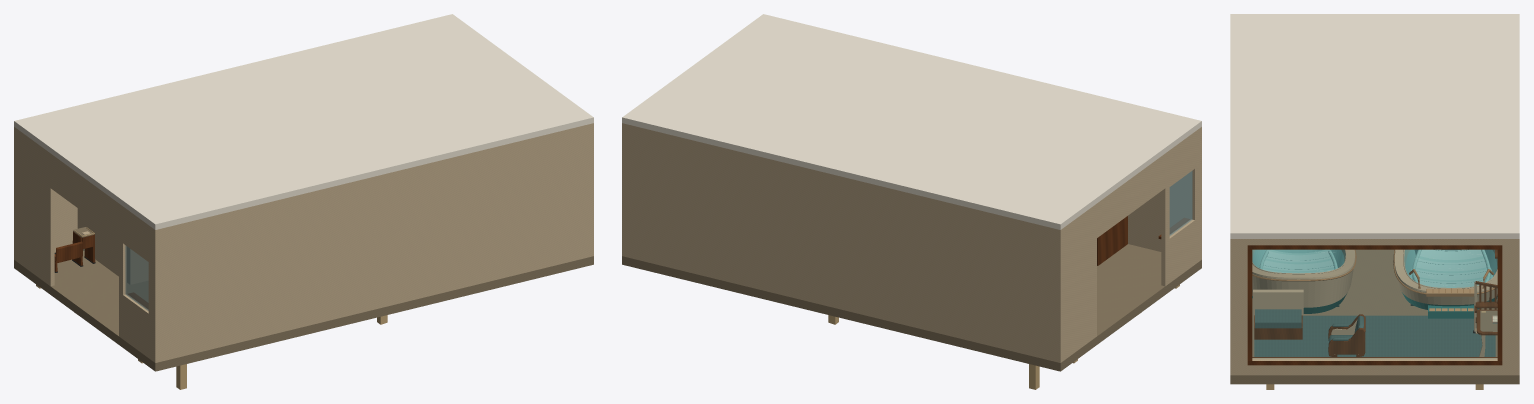
File: NG530_WarmInterior_r001.glb
3 renders of one model, left to right at view 1: azimuth 30°, elevation 25°; view 2: azimuth 150°, elevation 25°; view 3: azimuth 270°, elevation 25°, orthographic. The views are drawn at different scales.
Parts seen in each view (by area): view 1: NG530_RuntimeBatch_001, NG530_RoomFloor, NG530_ScreenedStreetGlass, NG530_RuntimeBatch_013; view 2: NG530_RuntimeBatch_001, NG530_RoomFloor, NG530_ScreenedStreetGlass, NG530_RuntimeBatch_002; view 3: NG530_RuntimeBatch_001, NGP_530_PrivateViewPane, NGW_530_OutlookFloorInlay, NG530_RoomFloor, NG530_ReservedRestSupport_02__Hollow continuous basin shell , NG530_ReservedRestSupport_01__WaterSurface_VisualOnly, NG530_ReservedRestSupport_01__Contoured broad immersed rest , NG530_ReservedRestSupport_01__Hollow continuous basin shell , NG530_ReservedRestSupport_02__WaterSurface_VisualOnly, NGP_530_Frame_Sill, NG530_ReservedRestSupport_02__Contoured broad immersed rest , NGP_530_Frame_Head (+11 smaller).
Part boxes in pixels (x1=…): NG530_RuntimeBatch_001: x1=14, y1=14, x2=593, y2=362; NG530_RoomFloor: x1=14, y1=250, x2=593, y2=371; NG530_ScreenedStreetGlass: x1=125, y1=245, x2=148, y2=310; NG530_RuntimeBatch_013: x1=54, y1=231, x2=95, y2=271; NG530_RuntimeBatch_001: x1=622, y1=14, x2=1201, y2=362; NG530_RoomFloor: x1=622, y1=244, x2=1201, y2=371; NG530_ScreenedStreetGlass: x1=1169, y1=171, x2=1192, y2=235; NG530_RuntimeBatch_002: x1=1097, y1=216, x2=1190, y2=265; NG530_RuntimeBatch_001: x1=1230, y1=14, x2=1519, y2=375; NGP_530_PrivateViewPane: x1=1252, y1=250, x2=1497, y2=358; NGW_530_OutlookFloorInlay: x1=1254, y1=315, x2=1495, y2=356; NG530_RoomFloor: x1=1230, y1=249, x2=1519, y2=384; NG530_ReservedRestSupport_02__Hollow continuous basin shell : x1=1252, y1=249, x2=1355, y2=313; NG530_ReservedRestSupport_01__WaterSurface_VisualOnly: x1=1406, y1=250, x2=1496, y2=287; NG530_ReservedRestSupport_01__Contoured broad immersed rest : x1=1412, y1=249, x2=1490, y2=287; NG530_ReservedRestSupport_01__Hollow continuous basin shell : x1=1394, y1=249, x2=1497, y2=309; NG530_ReservedRestSupport_02__WaterSurface_VisualOnly: x1=1253, y1=250, x2=1343, y2=272; NGP_530_Frame_Sill: x1=1247, y1=357, x2=1502, y2=365; NG530_ReservedRestSupport_02__Contoured broad immersed rest : x1=1263, y1=249, x2=1334, y2=273; NGP_530_Frame_Head: x1=1247, y1=245, x2=1502, y2=249.
Bounding box in the file's own units: 12.9 × 5.31 × 7.2.
51 materials, 20 textured.
